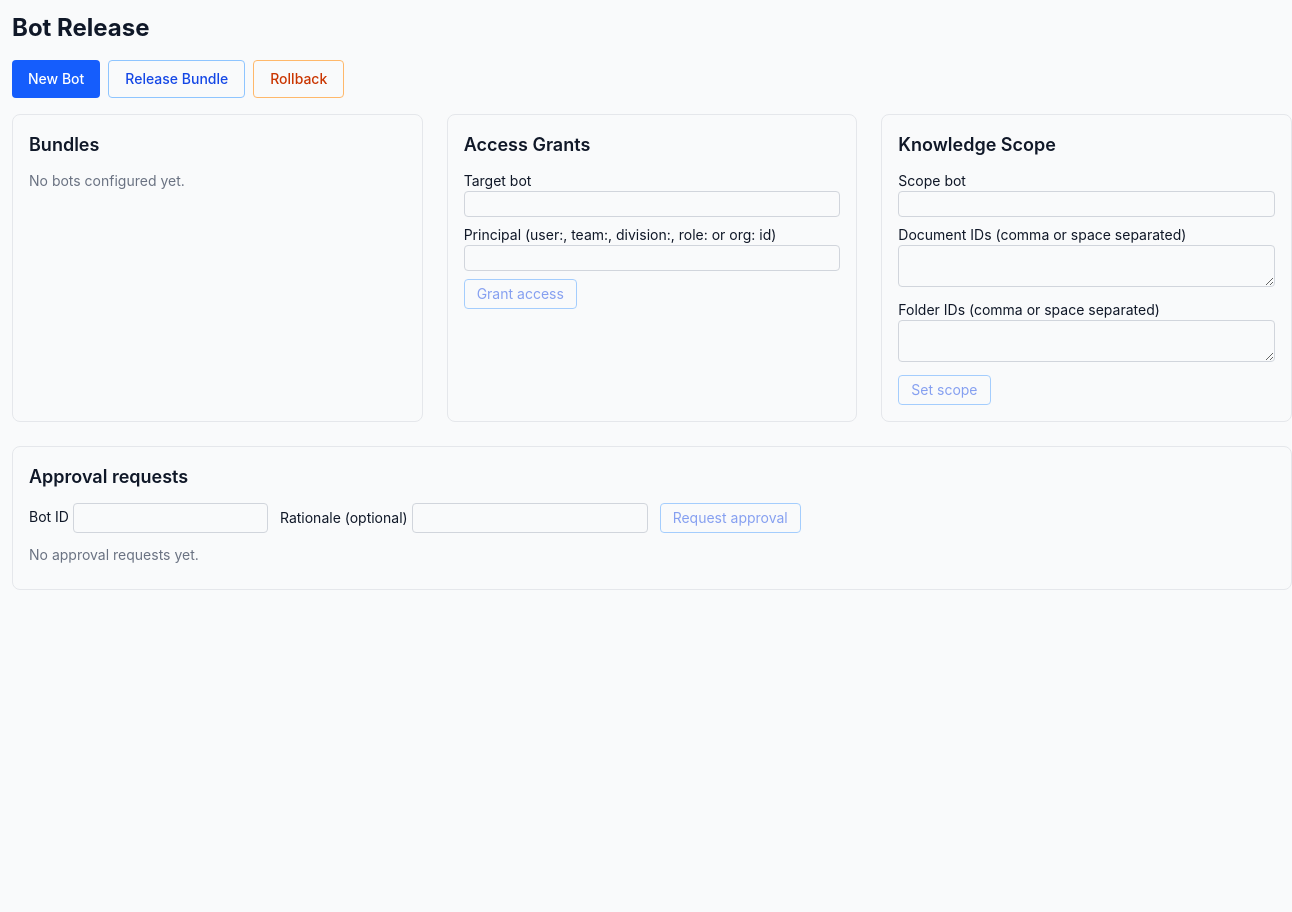
Test: BotReleaseScreen › creates a bot from the New Bot form and prefills the approval bot id
Expected: the text "No approval requests yet." is shown, 29,546 -> 199,563
Expected: the field labelled "bot name" is not shown
Click the button "New Bot" at (56, 79), box 12,60 -> 100,98
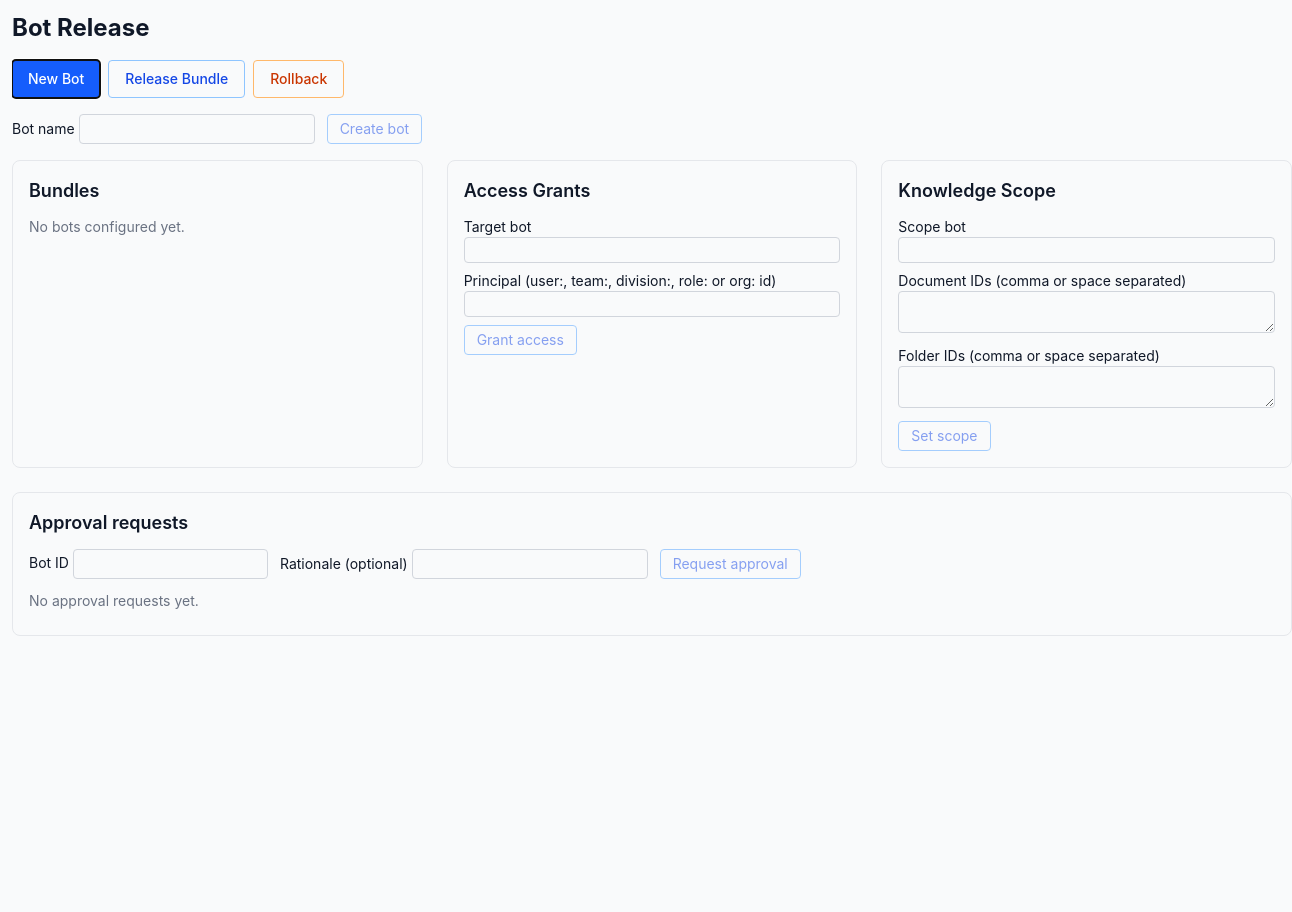
Result: the button "Create bot" is disabled at 327,114 -> 422,144
Type "  HR assistant " into the field labelled "Bot name" at (197, 129), box 79,114 -> 315,144
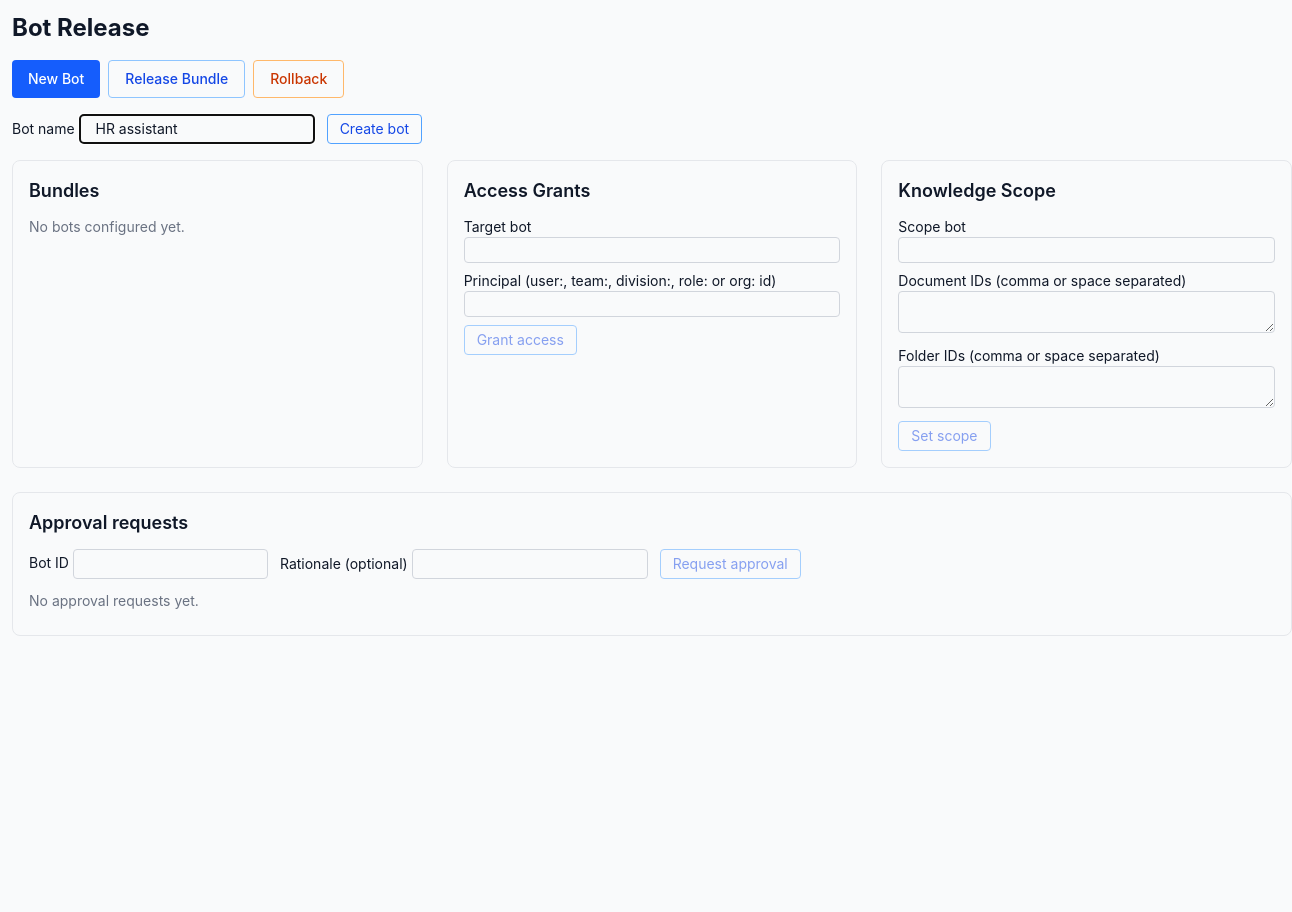
Click the button "Create bot" at (374, 129), box 327,114 -> 422,144
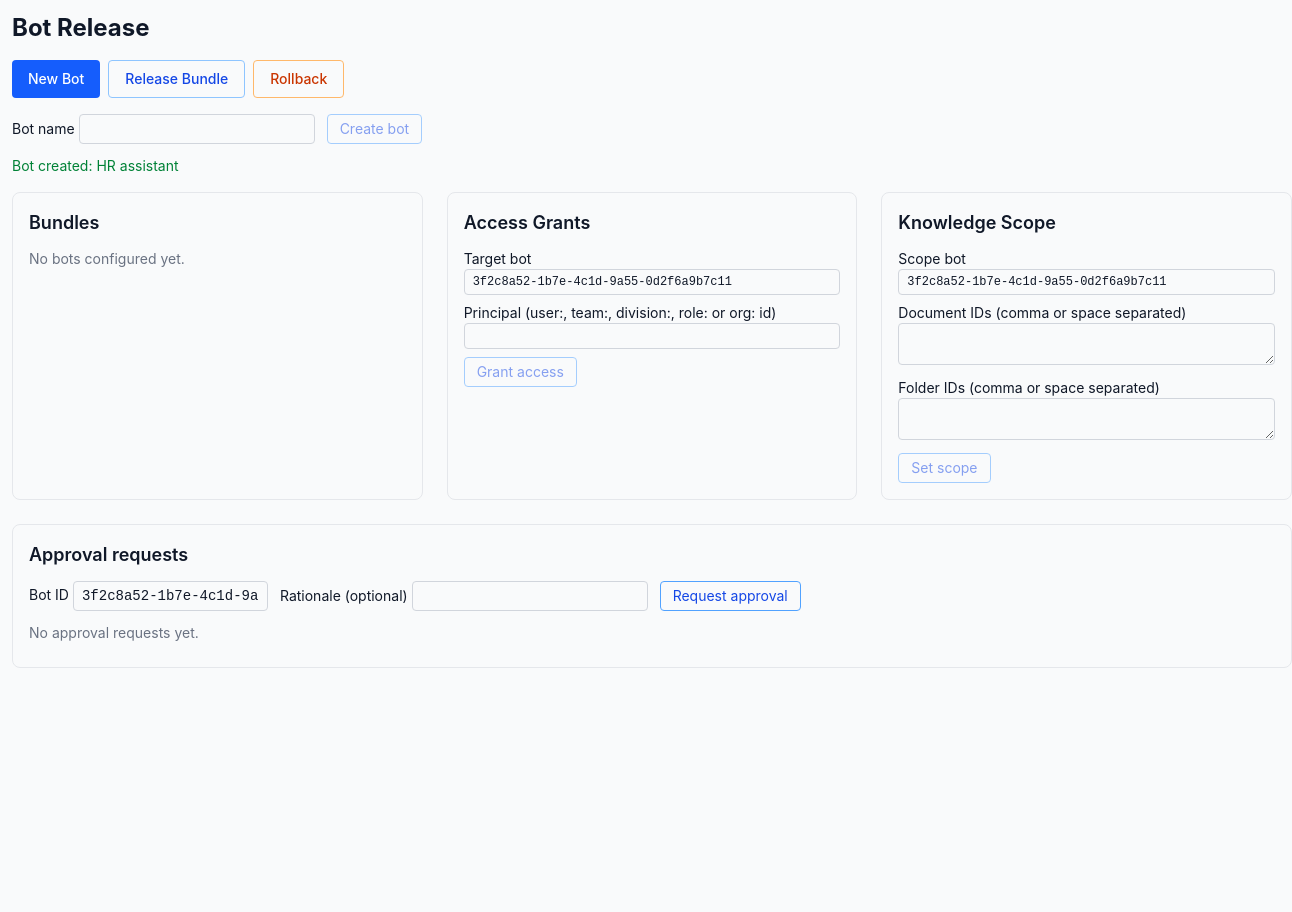
Result: the message reads "Bot created: HR assistant" at 12,157 -> 179,174
Result: the field labelled "Bot ID" holds "3f2c8a52-1b7e-4c1d-9a55-0d2f6a9b7c11" at 73,581 -> 268,611
